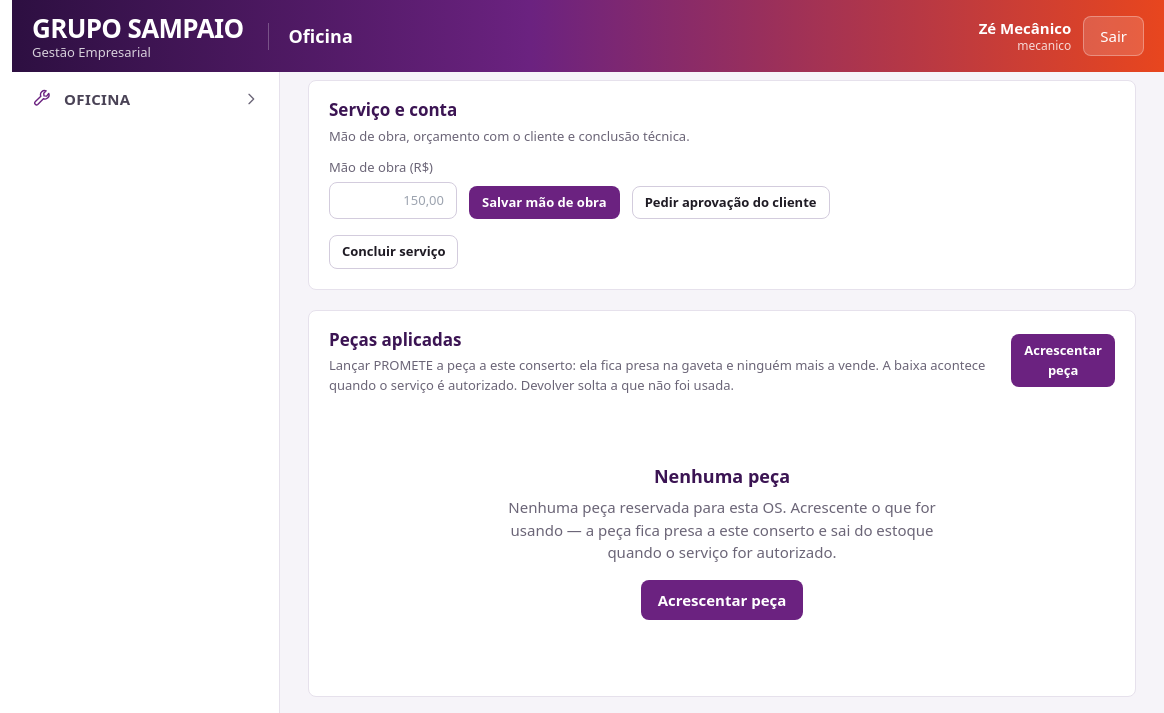
devolver a peça pela linha da tabela › devolve o que não foi usado, e a conta da OS cai junto
The width and height of the screenshot is (1164, 713).
(page scrolled)
Click the button "Acrescentar peça" in the row of "Peças aplicadas" at (1063, 361), box [1011,334,1115,387]
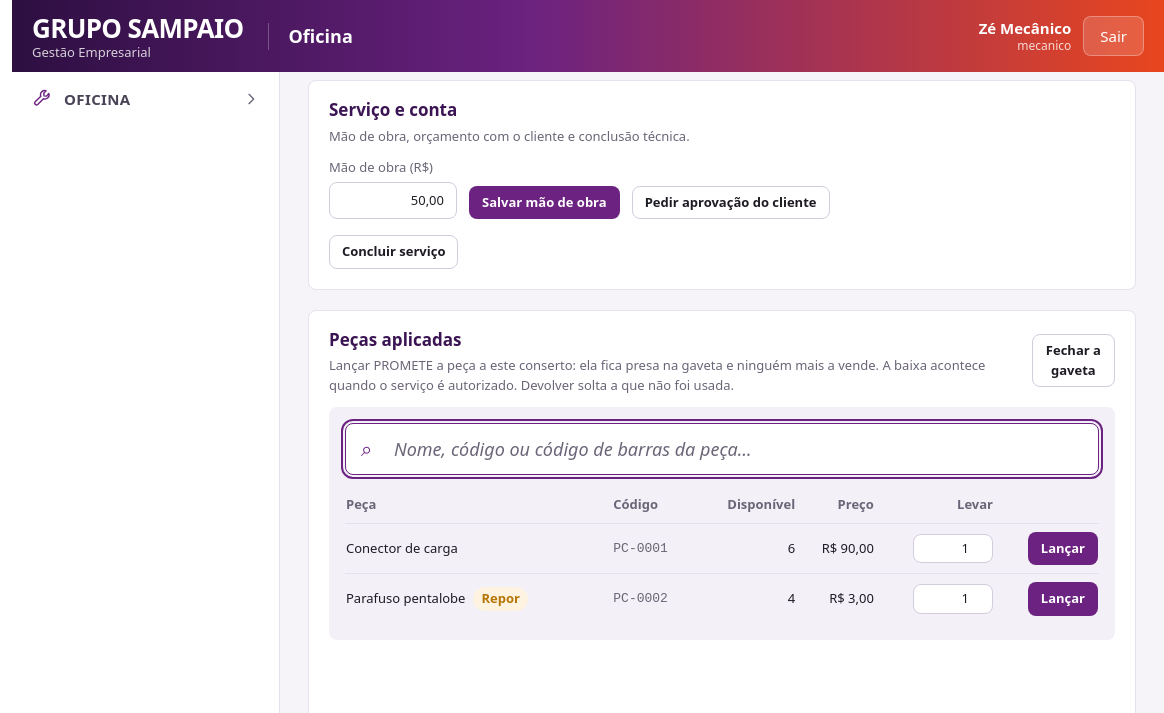
Replace the text in the number field named "Quantidade de Parafuso pentalobe" with "3" at (953, 599), box [913,584,993,614]
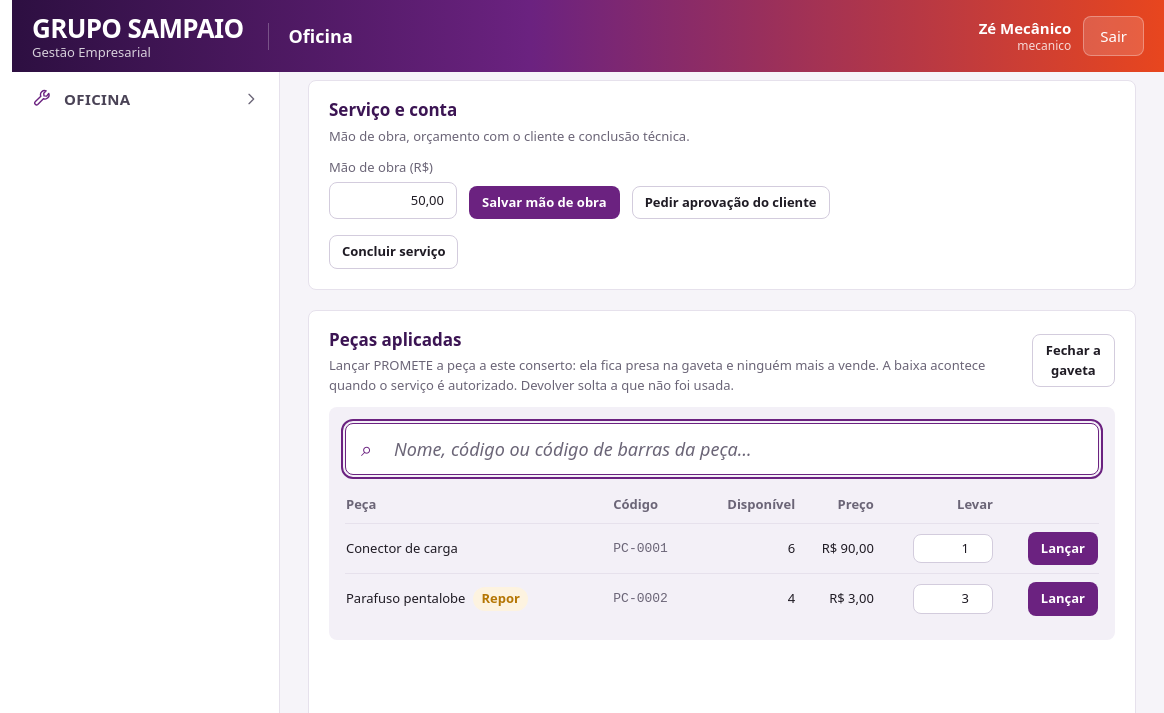
Click the button "Lançar" in the row of "Parafuso pentalobe" at (1063, 599), box [1028,582,1098,616]
(page scrolled)
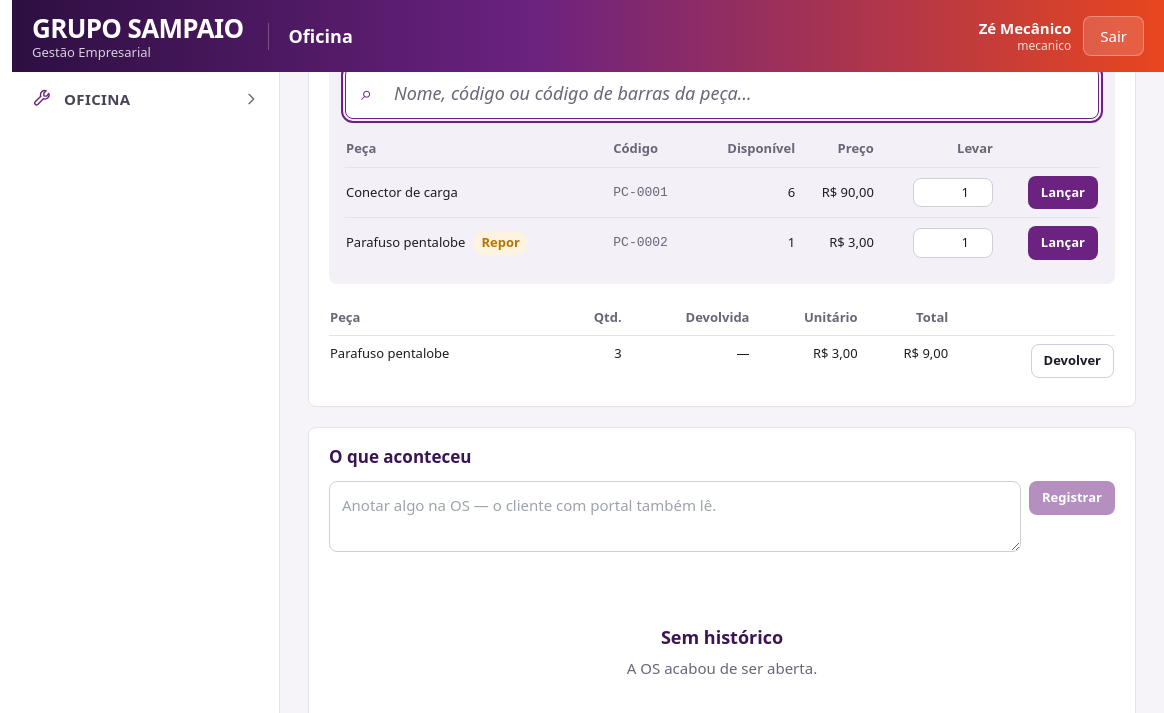
Click the button "Devolver" at (1072, 361), box [1031,344,1114,378]
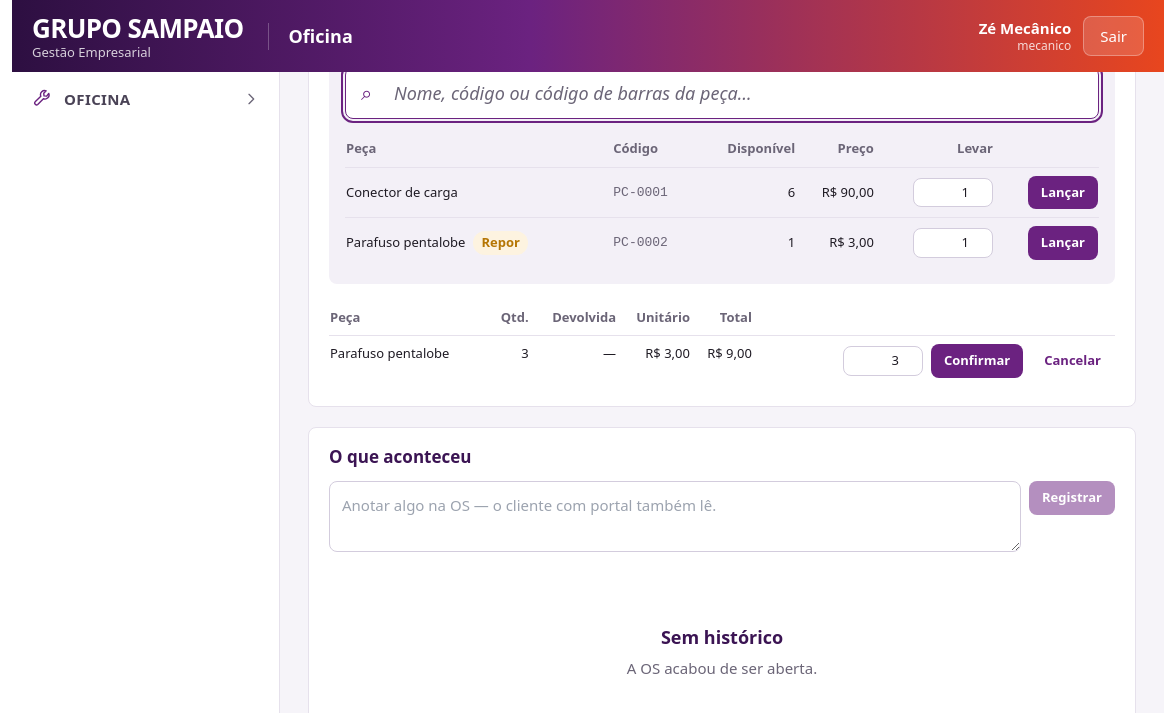
Check: the number field named "Quantidade a devolver de Parafuso pentalobe" holds "3"
Replace the text in the number field named "Quantidade a devolver de Parafuso pentalobe" with "1" at (883, 361), box [843,346,923,376]
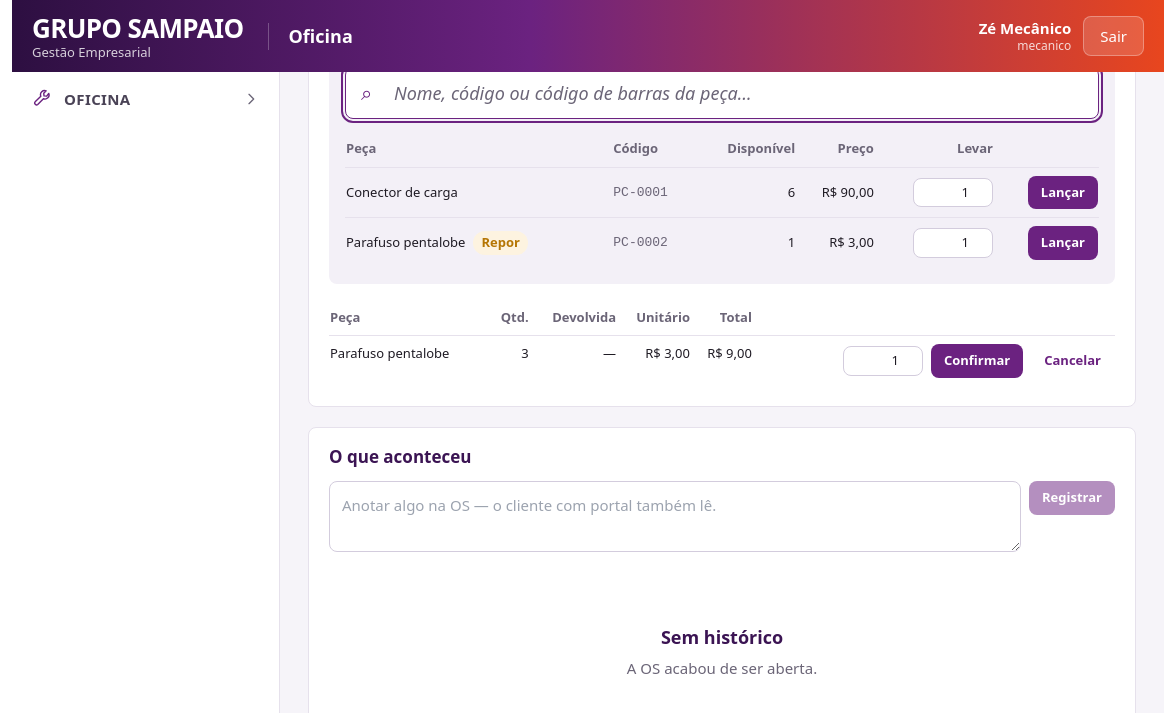
Click the button "Confirmar" at (977, 361), box [931,344,1023,378]
(page scrolled)
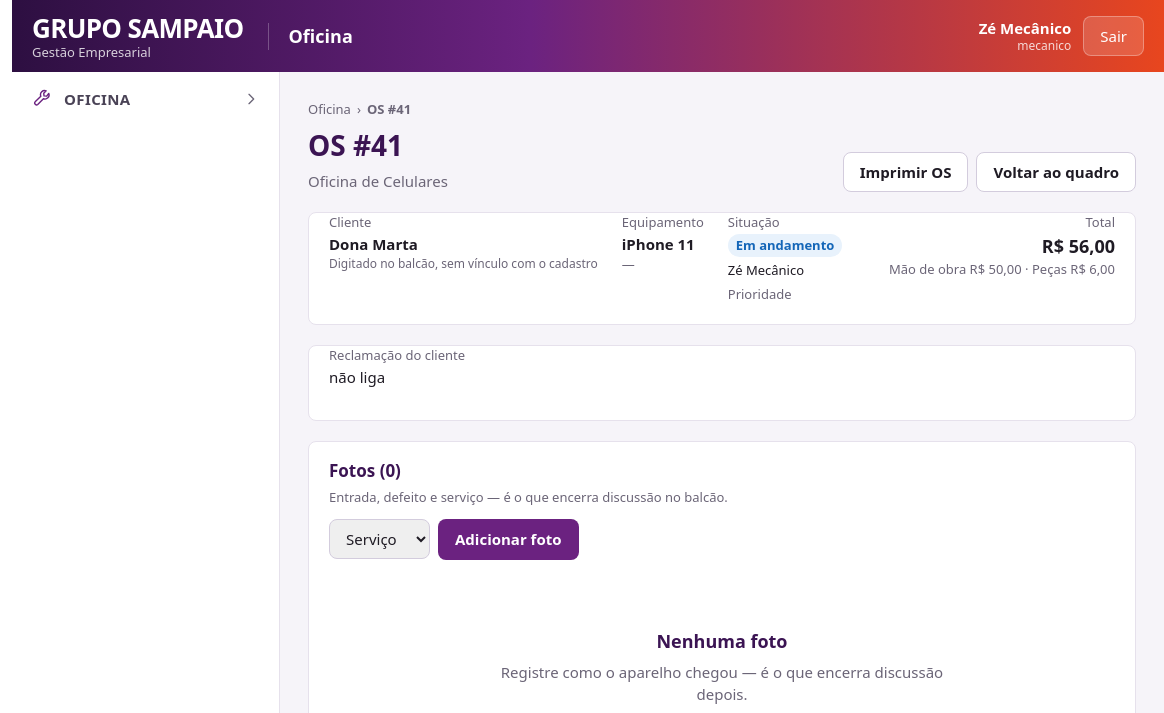
Check: the text "R$ 56,00" is shown, box [1042,234,1115,258]
